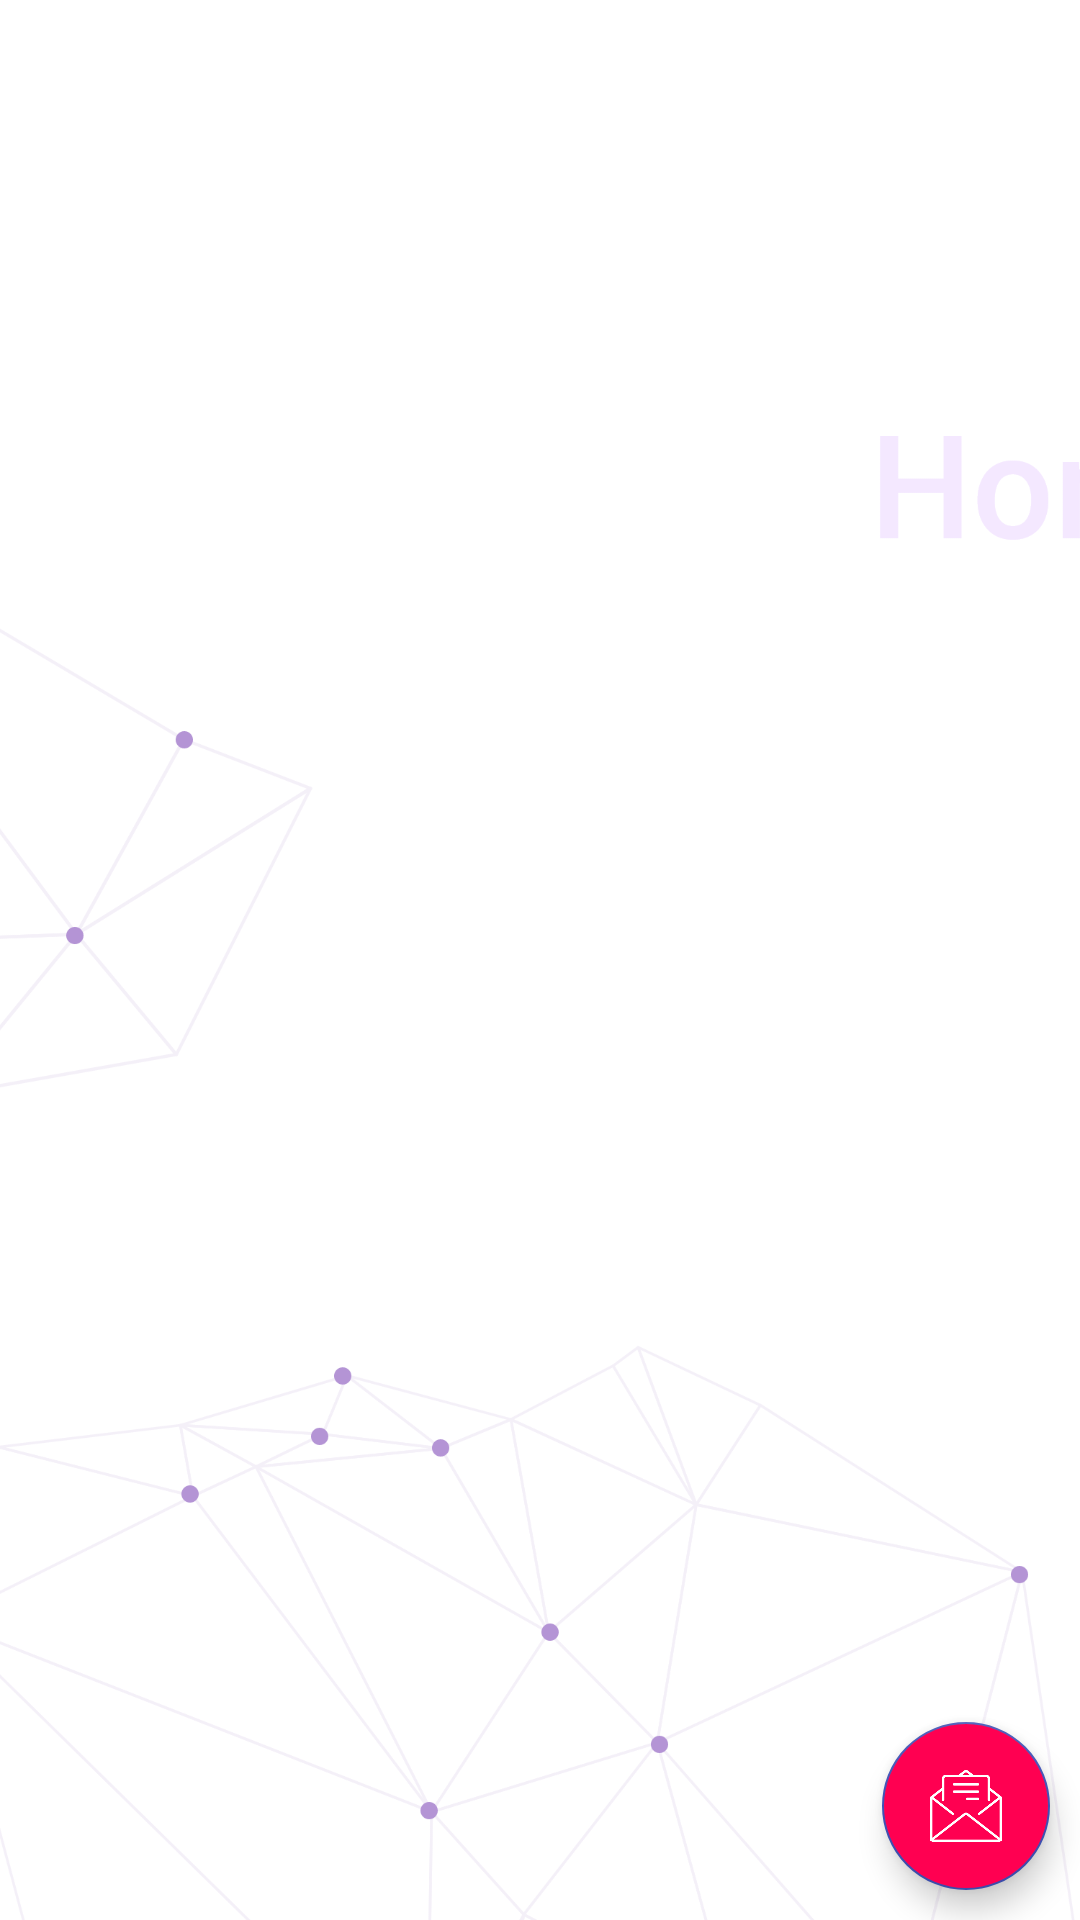

Screen size 1080px x 1920px. Icon name, then its center in pixels as (x=x, y=y):
message: (x=966, y=1806)
